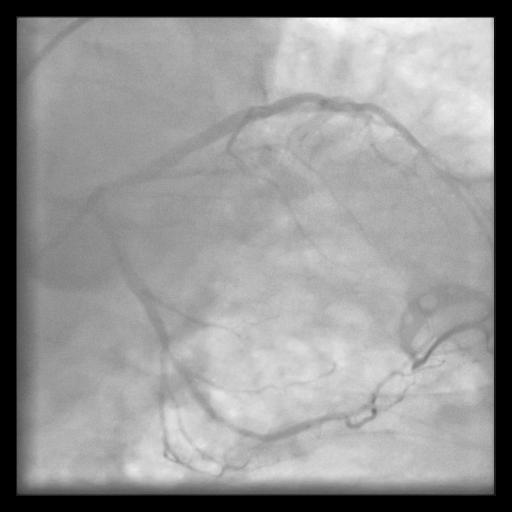Stenosis: (164, 340, 196, 390)
